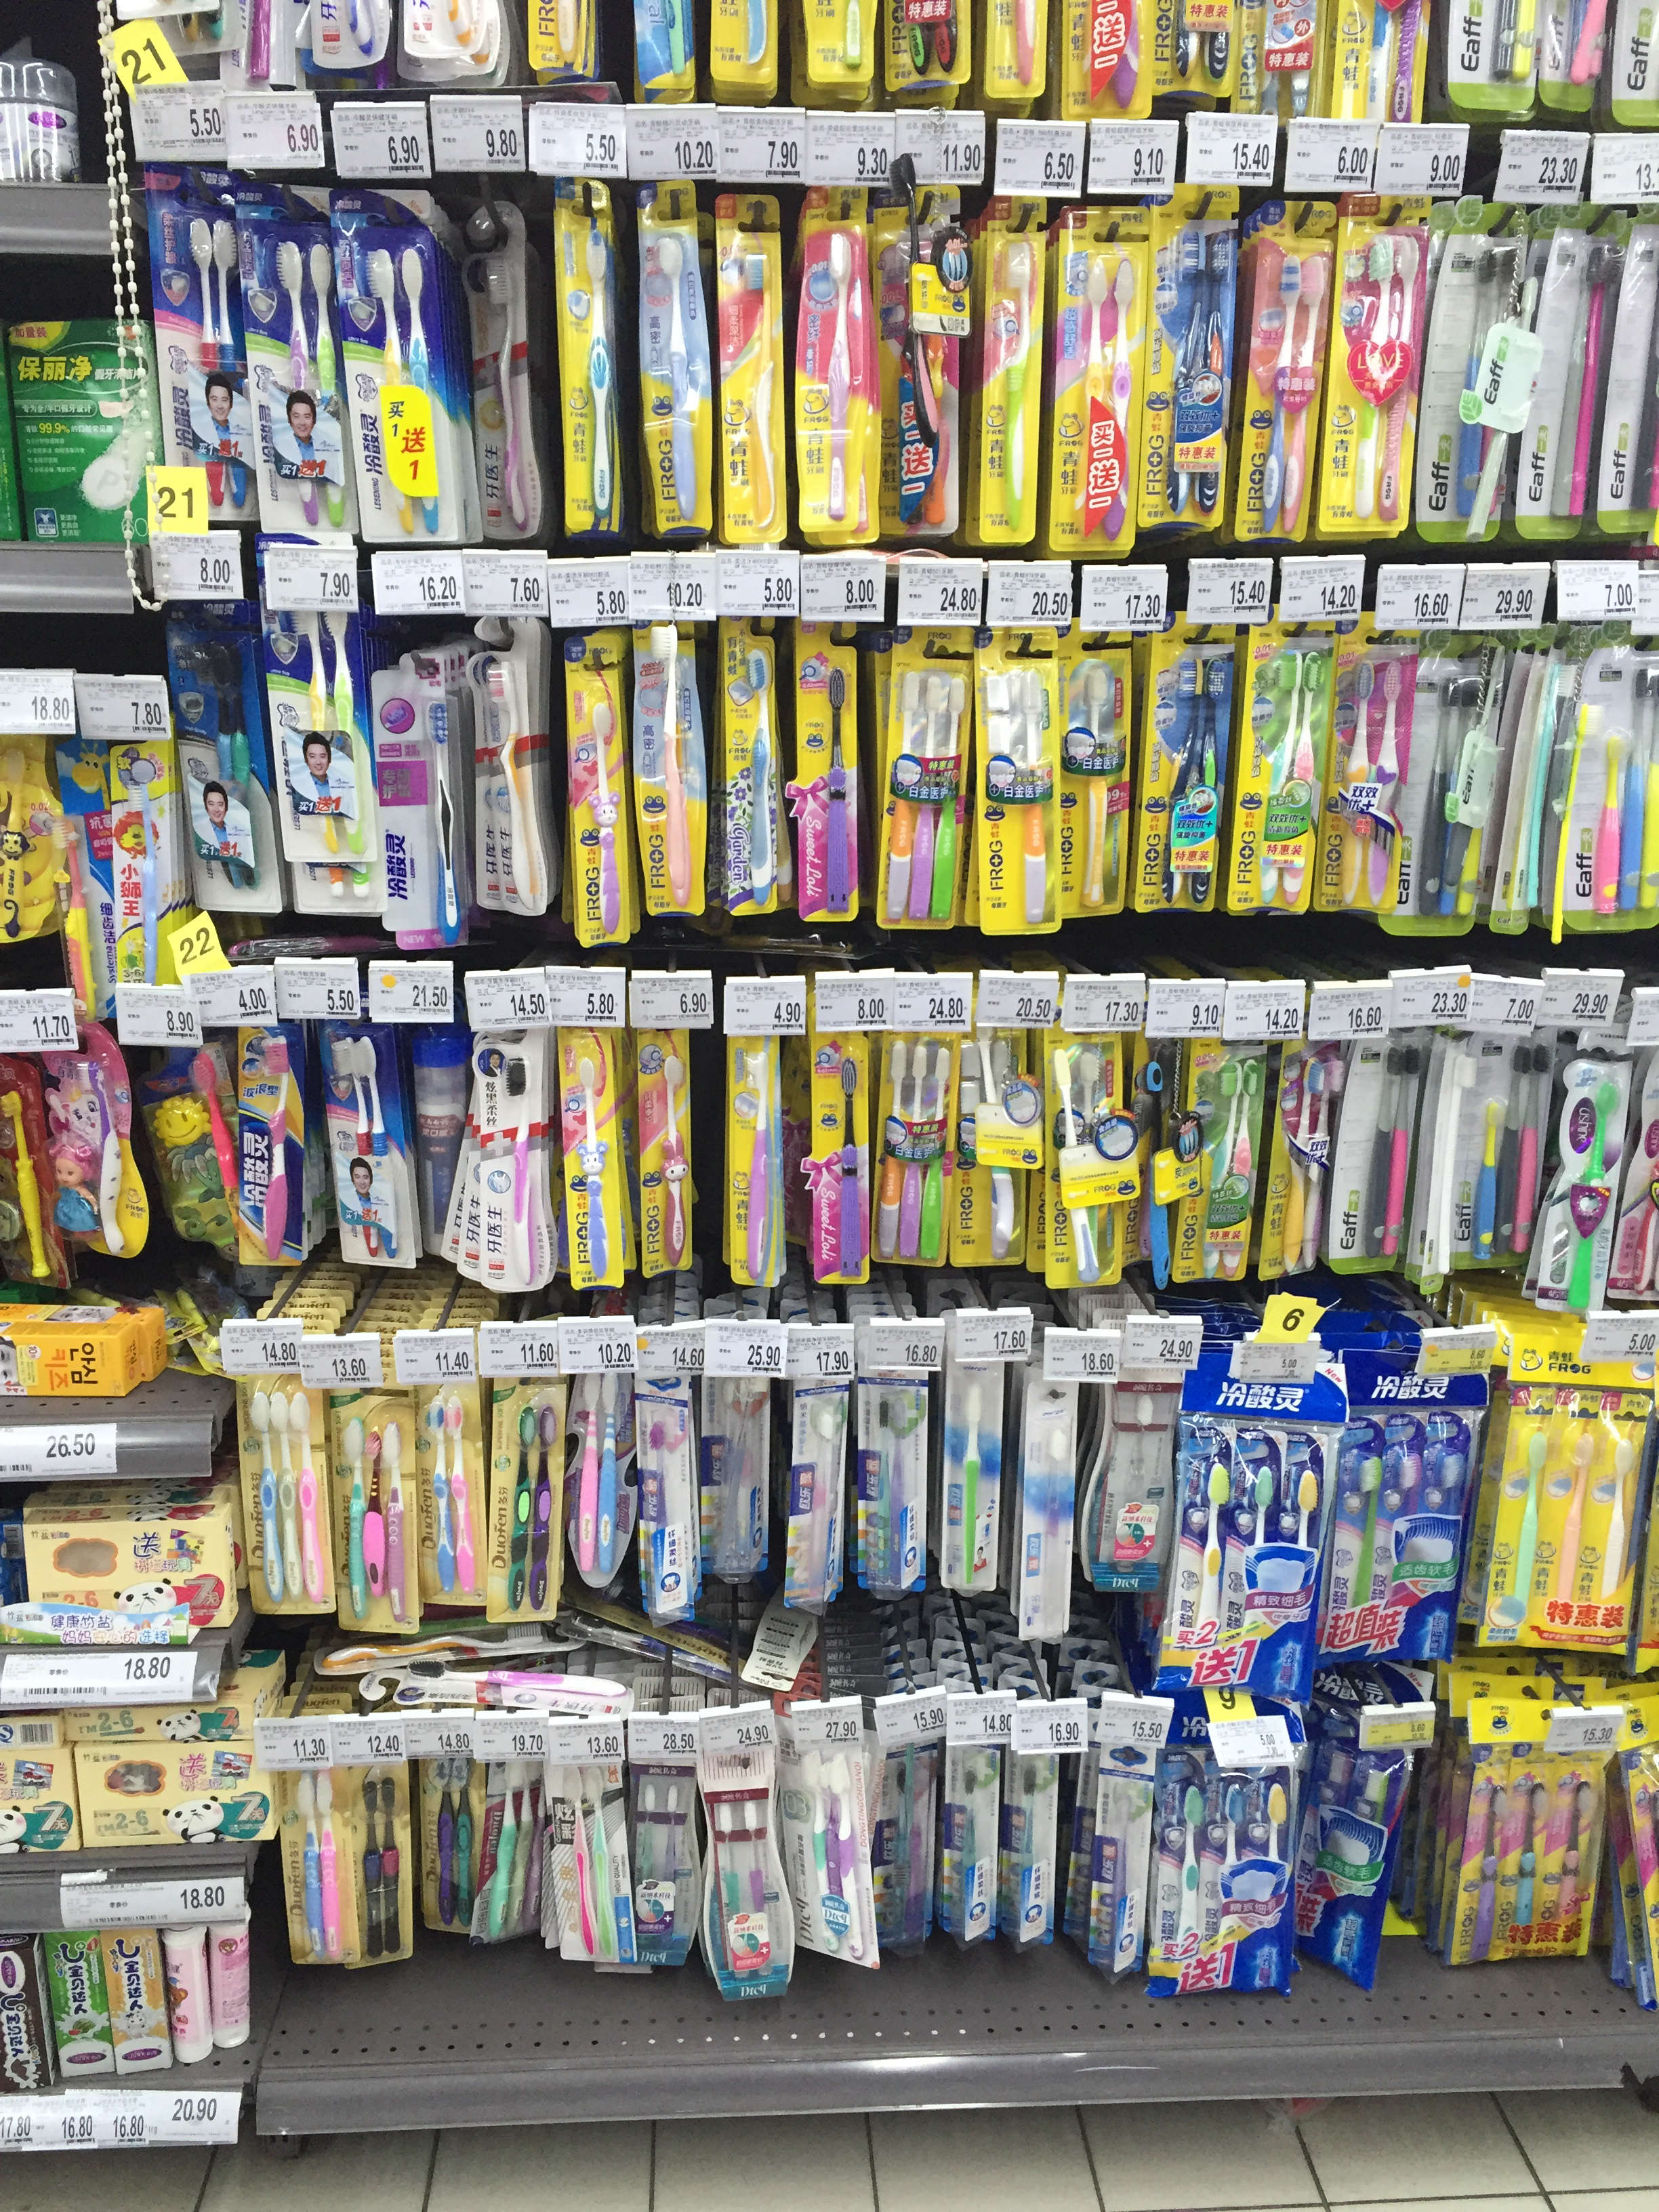Misplacement: (448, 167, 552, 549)
